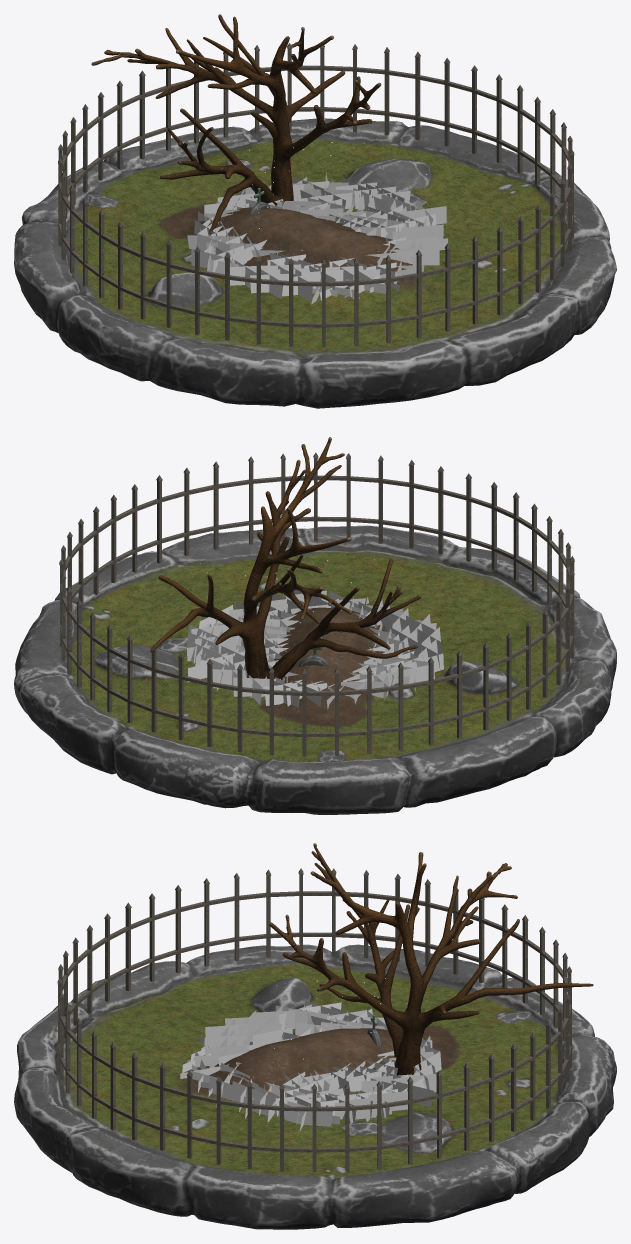
Rendered from Sketchfab_2017_11_05_07_36_22.fbx.
3 renders of one model, top to bottom at view 1: azimuth 30°, elevation 25°; view 2: azimuth 150°, elevation 25°; view 3: azimuth 270°, elevation 25°, orthographic.
Visible parts, largest first — view 1: GraveyardPlatform, FencePost, GRASS, Tree; view 2: GraveyardPlatform, FencePost, Tree, GRASS; view 3: GraveyardPlatform, FencePost, GRASS, Tree.
Part boxes in pixels (<box>): GraveyardPlatform: <box>14,118,616,408</box>; FencePost: <box>58,43,574,347</box>; GRASS: <box>187,172,447,304</box>; Tree: <box>91,14,381,233</box>; GraveyardPlatform: <box>14,525,616,814</box>; FencePost: <box>59,452,574,756</box>; Tree: <box>150,437,421,679</box>; GRASS: <box>187,590,443,709</box>; GraveyardPlatform: <box>14,944,616,1229</box>; FencePost: <box>57,868,571,1172</box>; GRASS: <box>180,1001,441,1131</box>; Tree: <box>268,843,593,1075</box>.
Size of the model in its own units: 1437 by 690 by 1450.
